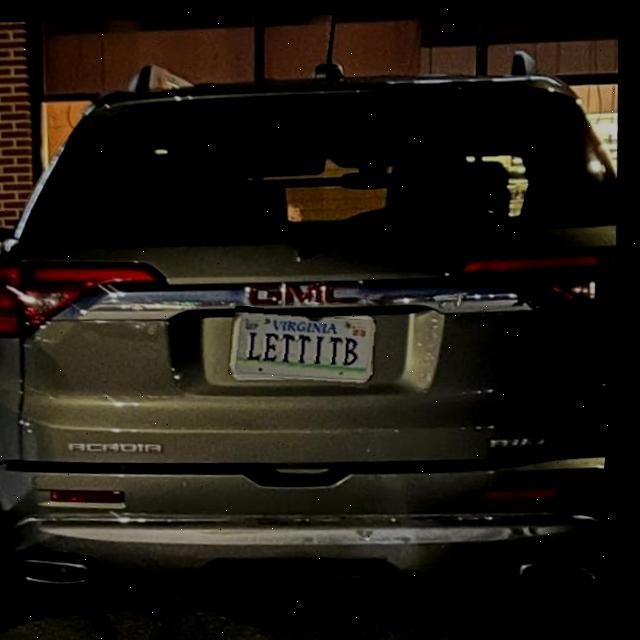LicensePlate: (234, 311, 382, 377)
